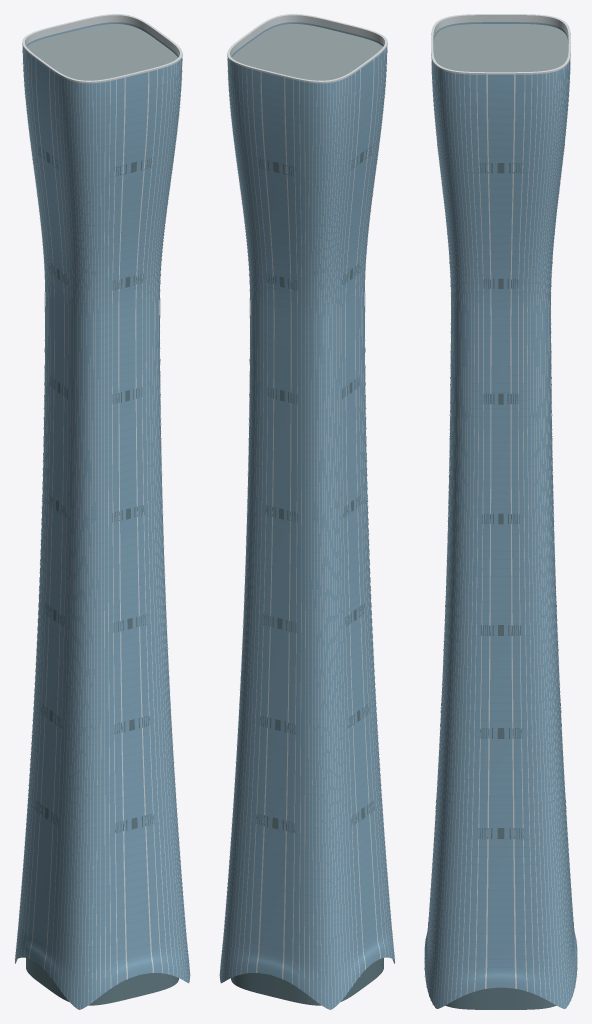
File: china-zun.glb
The picture shows the model from 3 angles, left to right: view 1: azimuth 30°, elevation 25°; view 2: azimuth 150°, elevation 25°; view 3: azimuth 270°, elevation 25°; orthographic projection.
Parts seen in each view (by area): view 1: Tower | curved glazing, Continuous silver mullions, Horizontal floor seams, Recessed roof, Mechanical floor louvres, Crown rim, Recessed glazed lobby; view 2: Tower | curved glazing, Continuous silver mullions, Horizontal floor seams, Recessed roof, Mechanical floor louvres, Crown rim, Recessed glazed lobby; view 3: Tower | curved glazing, Continuous silver mullions, Horizontal floor seams, Recessed roof, Crown rim, Mechanical floor louvres, Recessed glazed lobby.
Part boxes in pixels (x1,y1,x2,y2): Tower | curved glazing: (15,22,190,1009); Continuous silver mullions: (14,43,190,1009); Horizontal floor seams: (19,66,187,972); Recessed roof: (27,24,177,80); Mechanical floor louvres: (35,145,153,832); Crown rim: (22,14,182,83); Recessed glazed lobby: (26,958,178,1005); Tower | curved glazing: (219,22,394,1009); Continuous silver mullions: (219,43,395,1009); Horizontal floor seams: (222,66,390,972); Recessed roof: (232,24,382,80); Mechanical floor louvres: (256,145,374,832); Crown rim: (227,14,387,83); Recessed glazed lobby: (231,958,383,1005); Tower | curved glazing: (424,22,577,1008); Continuous silver mullions: (424,33,577,1007); Horizontal floor seams: (428,79,573,973); Recessed roof: (433,24,568,72); Crown rim: (431,14,570,74); Mechanical floor louvres: (435,145,566,838); Recessed glazed lobby: (445,987,556,1009).
Bounding box in the file's own units: 78.46 × 528 × 78.46.
